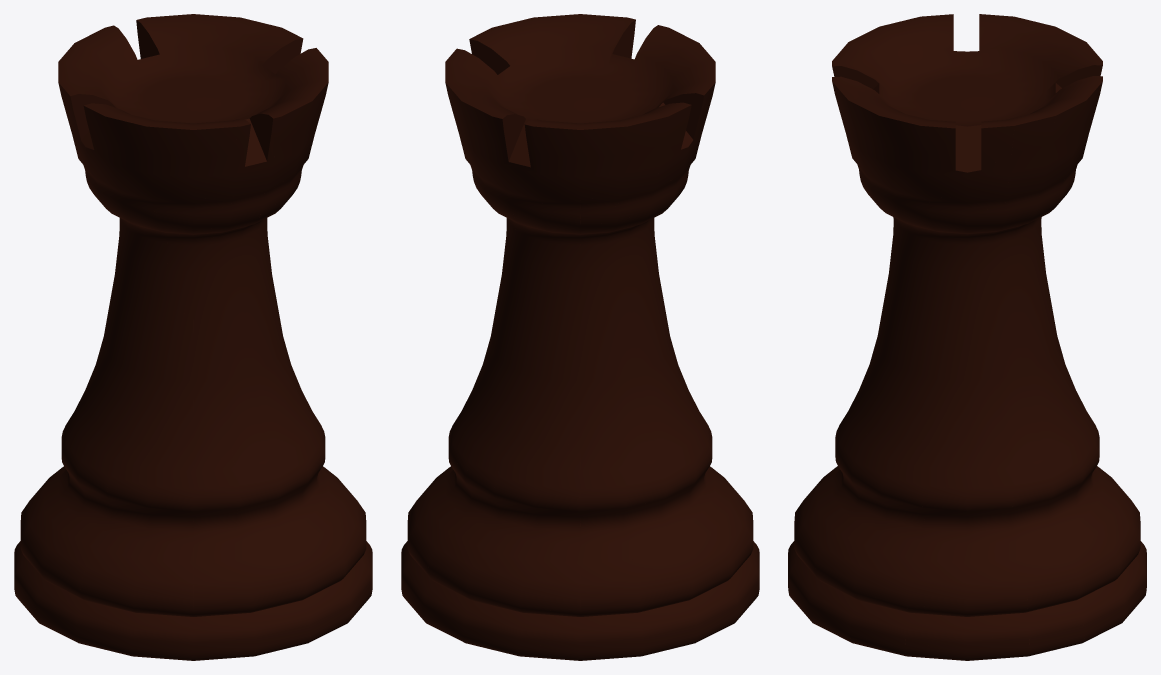
3 renders of one model, left to right at view 1: azimuth 30°, elevation 25°; view 2: azimuth 150°, elevation 25°; view 3: azimuth 270°, elevation 25°, orthographic.
Visible parts, largest first — view 1: TORRE02; view 2: TORRE02; view 3: TORRE02.
Part boxes in pixels (x1=…): TORRE02: x1=14, y1=14, x2=372, y2=660; TORRE02: x1=401, y1=14, x2=759, y2=660; TORRE02: x1=788, y1=14, x2=1146, y2=660.
Bounding box in the file's own units: 166 × 260 × 163.
